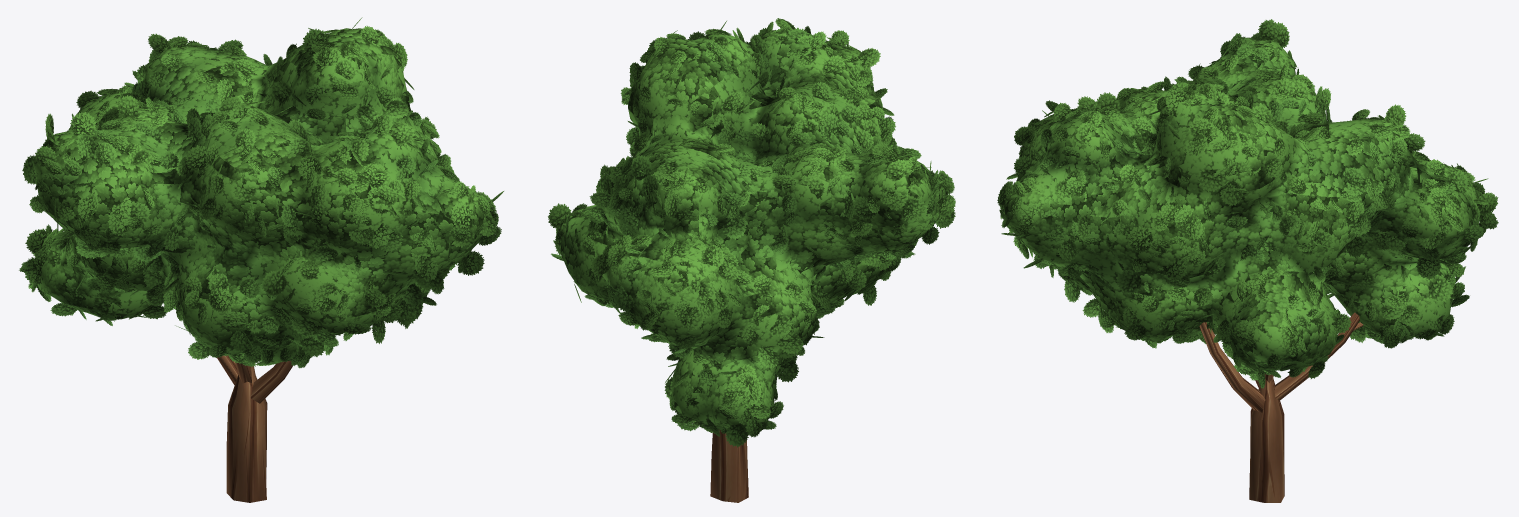
File: bush1_v2.gltf
The picture shows the model from 3 angles, left to right: view 1: azimuth 30°, elevation 25°; view 2: azimuth 150°, elevation 25°; view 3: azimuth 270°, elevation 25°; orthographic projection. The views are drawn at different scales.
Parts seen in each view (by area): view 1: bush1_v2_volume_LOD0, bush1_v2_leaves_LOD0, bush1_v2_trunk_LOD0; view 2: bush1_v2_volume_LOD0, bush1_v2_leaves_LOD0, bush1_v2_trunk_LOD0; view 3: bush1_v2_volume_LOD0, bush1_v2_leaves_LOD0, bush1_v2_trunk_LOD0.
Boxes of the visible parts, left/top/right/bottom form: bush1_v2_volume_LOD0: left=32, top=28, right=492, bottom=362; bush1_v2_leaves_LOD0: left=19, top=17, right=503, bottom=368; bush1_v2_trunk_LOD0: left=217, top=355, right=292, bottom=502; bush1_v2_volume_LOD0: left=559, top=30, right=945, bottom=430; bush1_v2_leaves_LOD0: left=548, top=18, right=955, bottom=447; bush1_v2_trunk_LOD0: left=710, top=429, right=748, bottom=502; bush1_v2_volume_LOD0: left=1004, top=40, right=1480, bottom=369; bush1_v2_leaves_LOD0: left=997, top=19, right=1498, bottom=388; bush1_v2_trunk_LOD0: left=1199, top=312, right=1363, bottom=502.
Size of what is drawn, in the model's own units: 1.49 by 1.62 by 1.71.
Materials: 3 (3 with a texture image).
